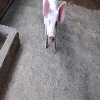heo: (39, 2, 66, 52)
